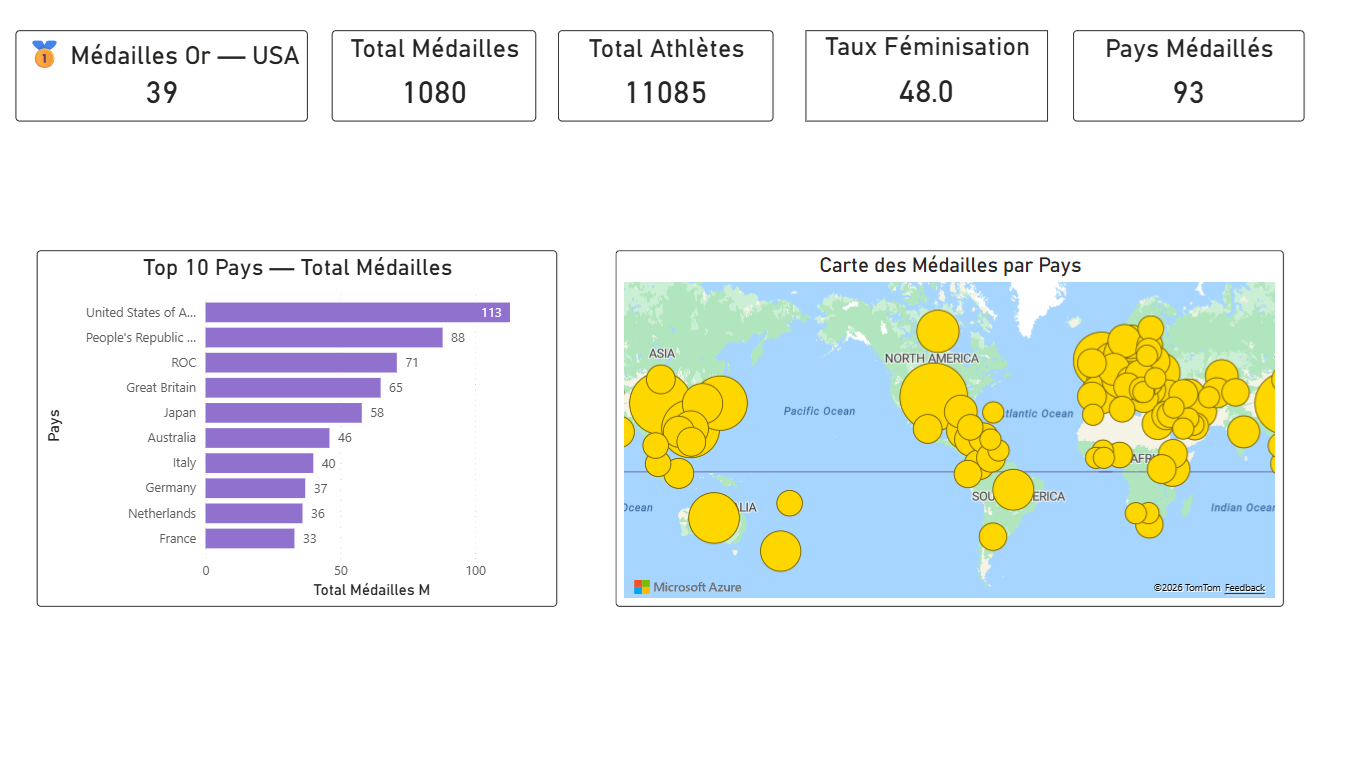

The page's visual inventory and layout, read from the dashboard file:
{"tool":"powerbi","page":{"name":"Vue Générale","canvas":[1280,720],"ordinal":0},"visuals":[{"type":"card","title":"Pays Médaillés","fields":{"Values":["Medals.Nb Pays"]},"box":[1018.3,29.8,218.8,86.3],"z":0},{"type":"card","title":"Total Médailles","fields":{"Values":["Medals.Total Médailles M"]},"box":[315.6,29.8,193.5,86.3],"z":1000},{"type":"card","title":"Total Athlètes","fields":{"Values":["Medals.Nb Athlètes"]},"box":[530,29.8,204,86.3],"z":2000},{"type":"card","title":"Taux Féminisation","fields":{"Values":["Medals.Parité Globale %"]},"box":[765.2,29.8,229.3,86.3],"z":3000},{"type":"card","title":"🥇 Médailles Or — USA","fields":{"Values":["Medals.Total Or"]},"box":[16.4,29.8,276.9,86.3],"z":4000},{"type":"clusteredBarChart","title":"Top 10 Pays — Total Médailles","fields":{"Category":["Medals.Pays"],"Y":["Medals.Total Médailles M"]},"box":[37.2,238.2,492.8,337.9],"z":5000},{"type":"azureMap","title":"Carte des Médailles par Pays","fields":{"Category":["Medals.Pays"],"Size":["Medals.Total Médailles M"]},"box":[585.1,238.2,632.7,337.9],"z":8001}]}

Visuals, with their boxes in screenshot pixels (x1, y1, x2, y2), scaled from the page's 1280x720 canvas onto the 1345x768 screenshot:
"Pays Médaillés" card: detection(1070, 32, 1300, 124)
"Total Médailles" card: detection(332, 32, 535, 124)
"Total Athlètes" card: detection(557, 32, 771, 124)
"Taux Féminisation" card: detection(804, 32, 1045, 124)
"🥇 Médailles Or — USA" card: detection(17, 32, 308, 124)
"Top 10 Pays — Total Médailles" clusteredBarChart: detection(39, 254, 557, 615)
"Carte des Médailles par Pays" azureMap: detection(615, 254, 1280, 615)
